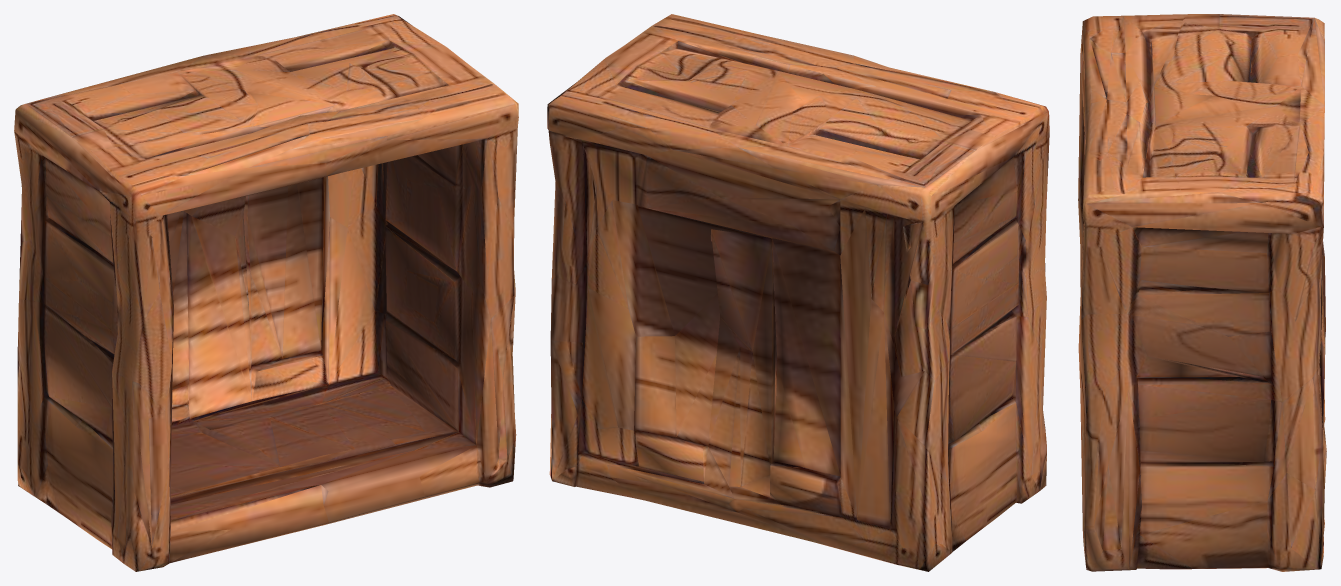
File: wooden-crate.glb
The picture shows the model from 3 angles, left to right: view 1: azimuth 30°, elevation 25°; view 2: azimuth 150°, elevation 25°; view 3: azimuth 270°, elevation 25°; orthographic projection. The views are drawn at different scales.
Size of the model in its own units: 1.91 by 1.85 by 1.09.
Materials: 1 (1 with a texture image).
